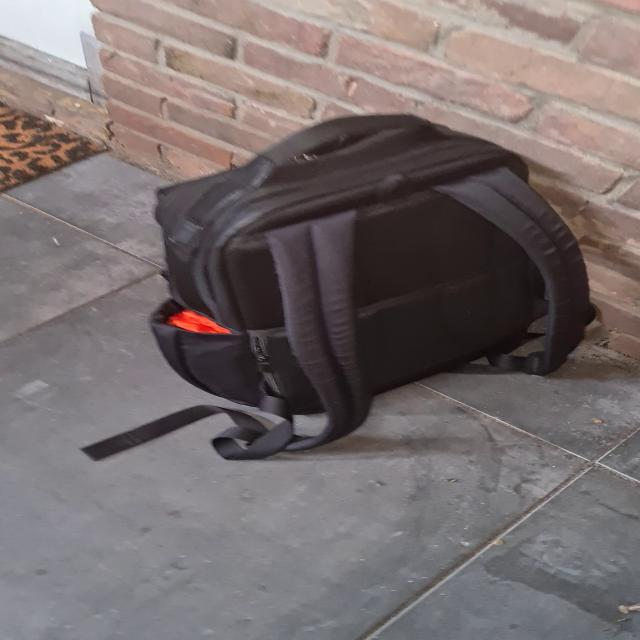backpack: (133, 105, 605, 461)
